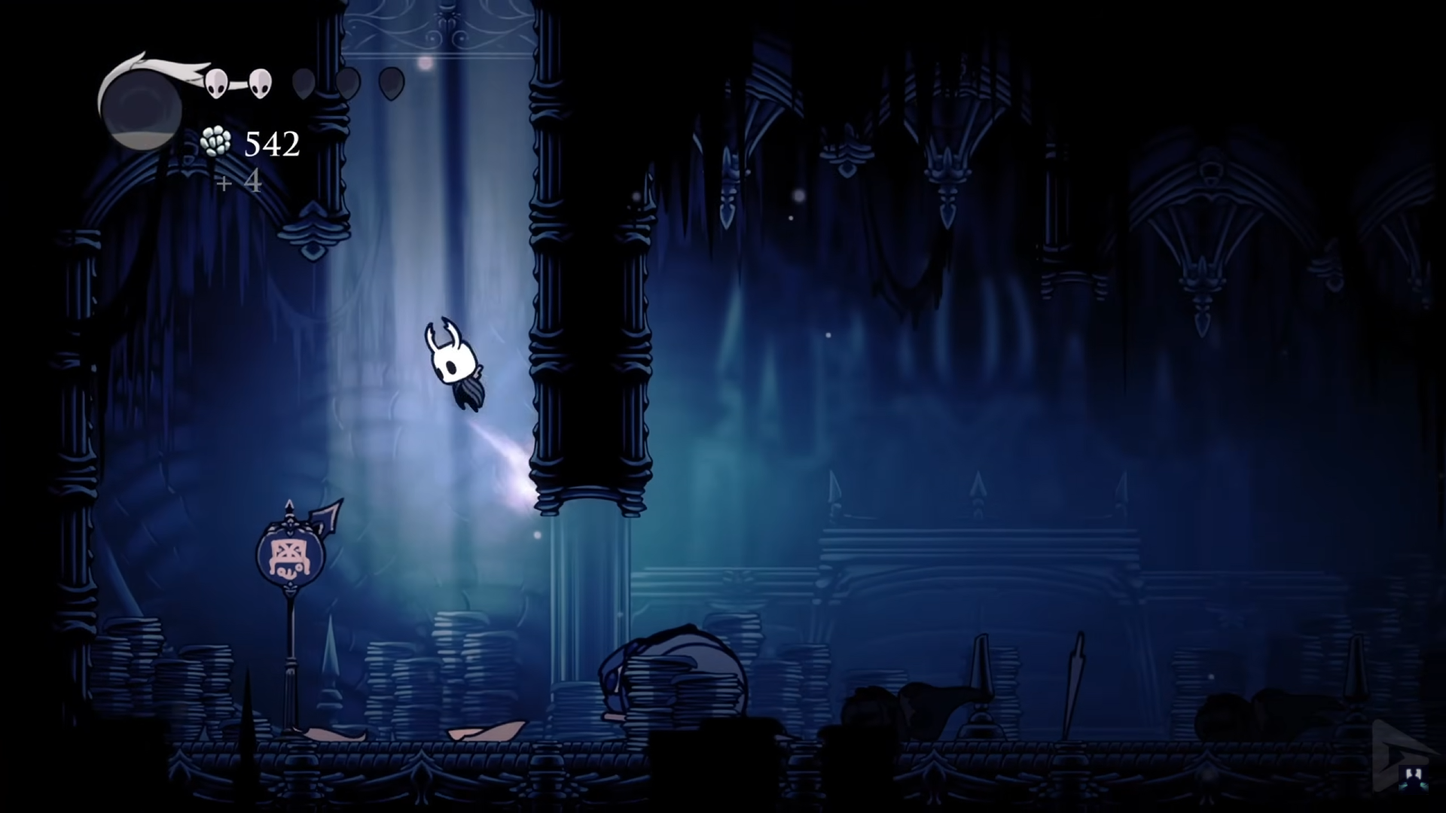HK: (422, 313, 488, 418)
